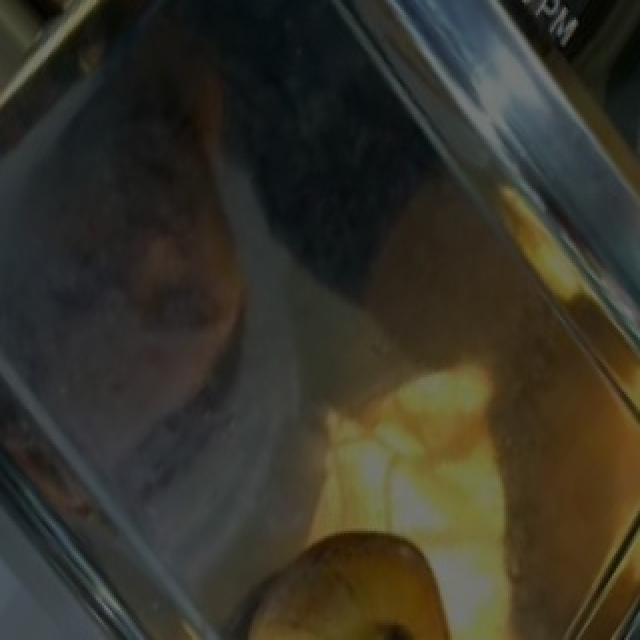fruit: (212, 503, 478, 640)
